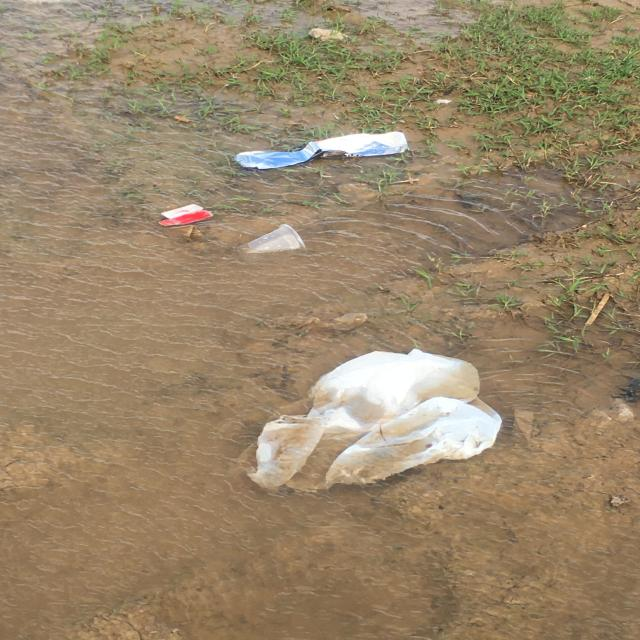Plastic bag: (242, 343, 512, 499)
Plastic cup: (238, 221, 308, 261)
Plastic packaging: (232, 130, 416, 171), (155, 202, 217, 229)
